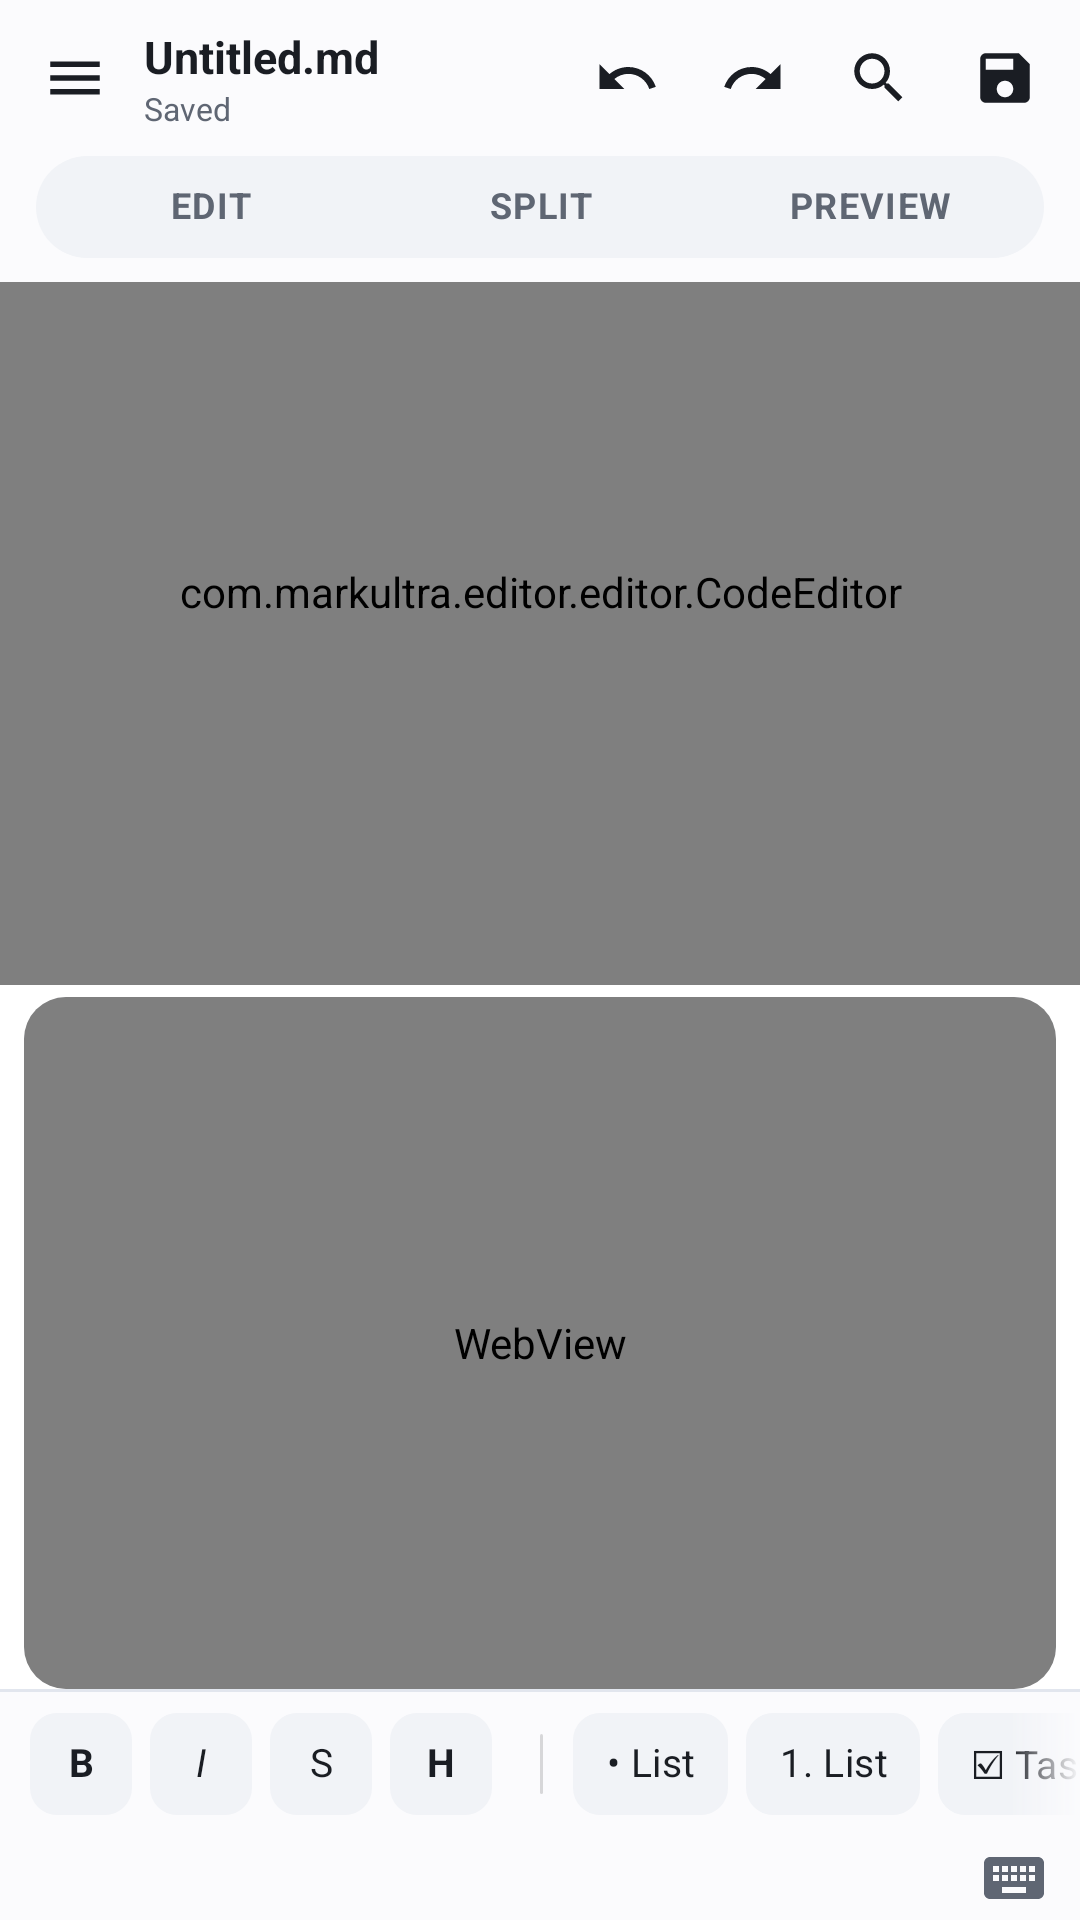

Locate icon controls on the screen. Image size 1080*1920, boxes as Rect(x1, y1, x2, y2).
Menu: Rect(50, 61, 100, 95)
Redo: Rect(724, 64, 781, 89)
Save: Rect(980, 53, 1030, 103)
Search: Rect(854, 53, 903, 102)
Undo: Rect(599, 64, 656, 89)
